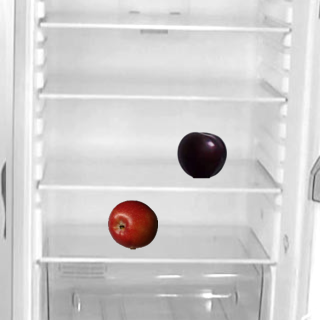Apple Braeburn: (107, 199, 157, 249)
Cherry Wax Black: (176, 129, 226, 179)
